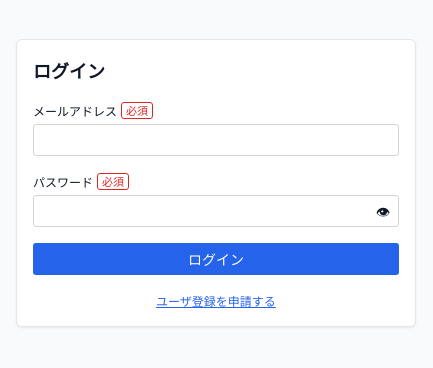
Test case: LoginPage › 空欄で送信するとクライアント検証エラーを表示しAPIを呼ばない
Step 1. Click the button "ログイン" → [216, 259], box [33,243,399,275]
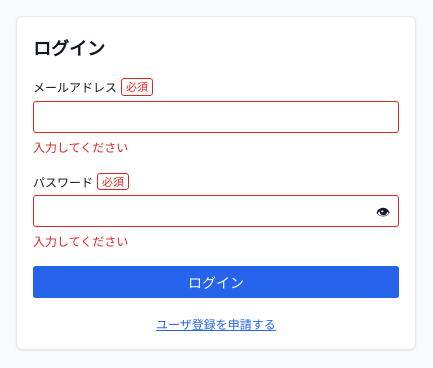
Expected: the text "入力してください" is shown 2 times, [33,138,128,155]; [33,232,128,249]
